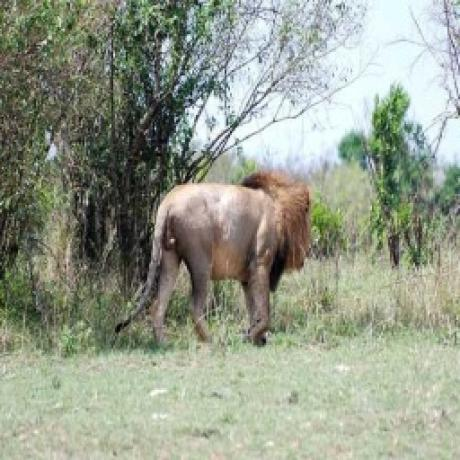Lion: (109, 170, 313, 349)
